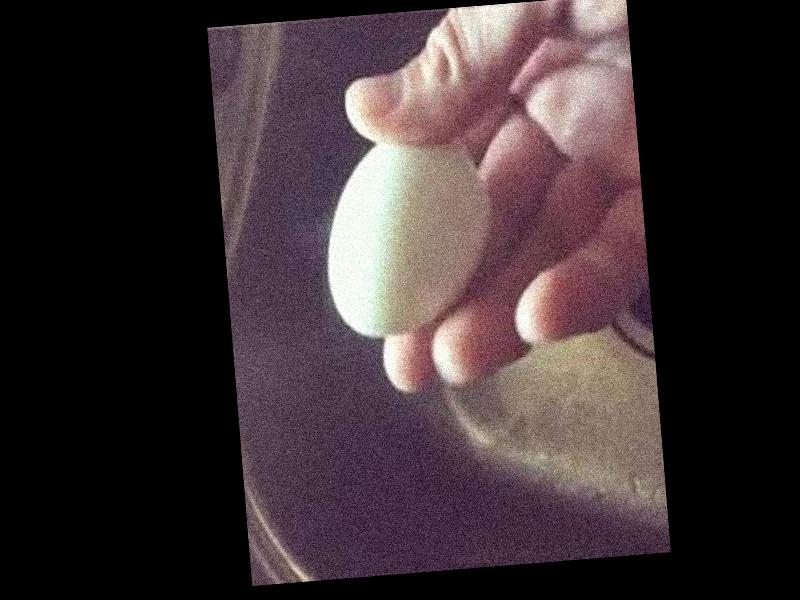Eggs: (318, 133, 497, 341)
